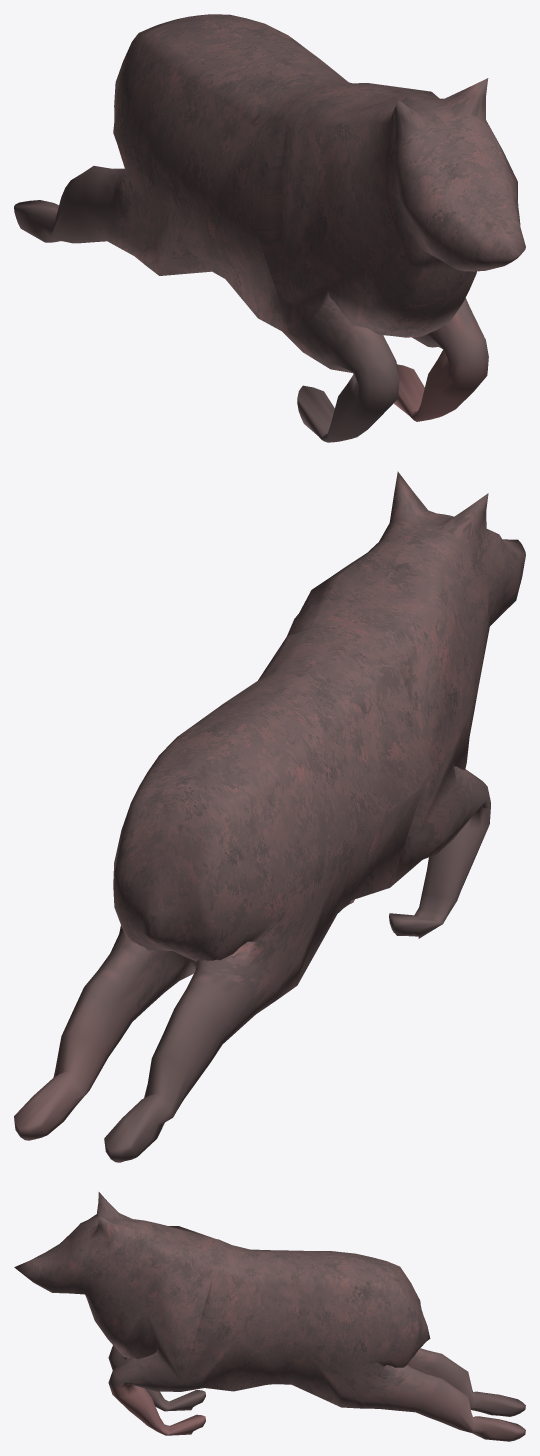
Rendered from piesblend_000021.obj.
3 views of the same model, one above another, from view 1: azimuth 30°, elevation 25°; view 2: azimuth 150°, elevation 25°; view 3: azimuth 270°, elevation 25° (orthographic). The views are drawn at different scales.
Visible parts, largest first — view 1: Cube; view 2: Cube; view 3: Cube.
Part boxes in pixels (x1=…): Cube: x1=14, y1=14, x2=525, y2=442; Cube: x1=14, y1=471, x2=525, y2=1162; Cube: x1=14, y1=1192, x2=525, y2=1441.
Size of the model in its own units: 2.55 by 5.31 by 10.91.
Materials: 1 (1 with a texture image).
